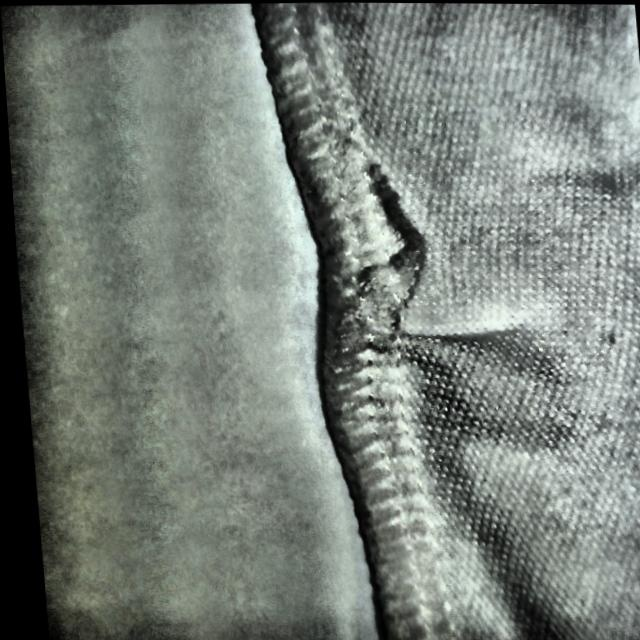seam: (301, 160, 523, 397)
